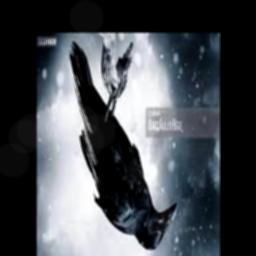Crow: (69, 42, 176, 252)
